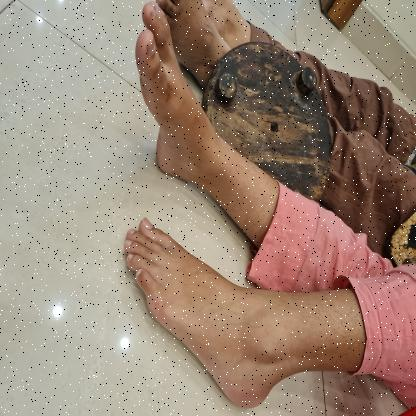leg: (124, 214, 366, 412), (134, 0, 278, 251), (157, 0, 233, 87)
